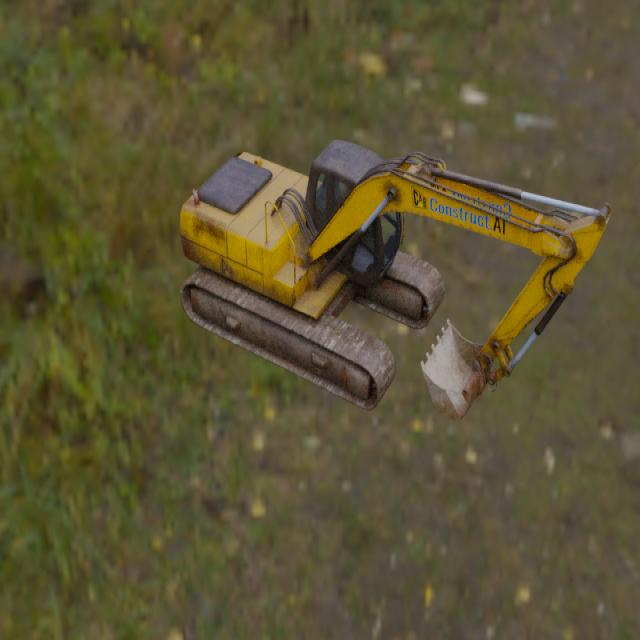excavator: (179, 139, 612, 420)
